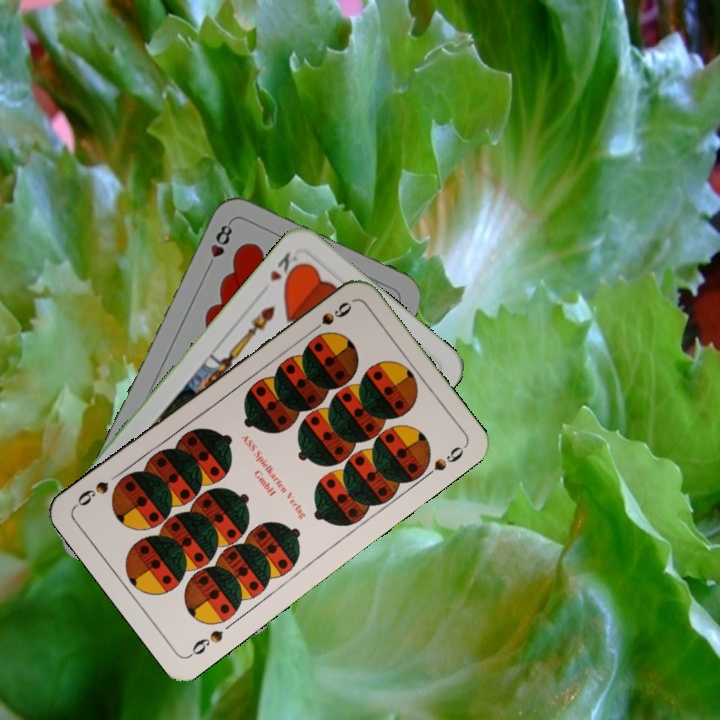H8: (202, 217, 235, 273)
HK: (265, 247, 304, 287)
S9: (304, 297, 355, 338), (185, 625, 226, 660)
